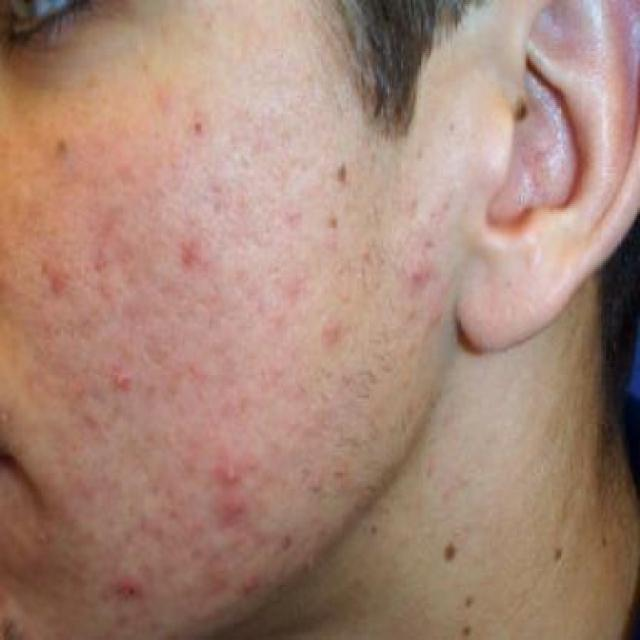Acne: (160, 220, 218, 279), (106, 552, 156, 610), (210, 451, 264, 494), (103, 362, 143, 408)
Blackheads: (180, 104, 218, 149)
